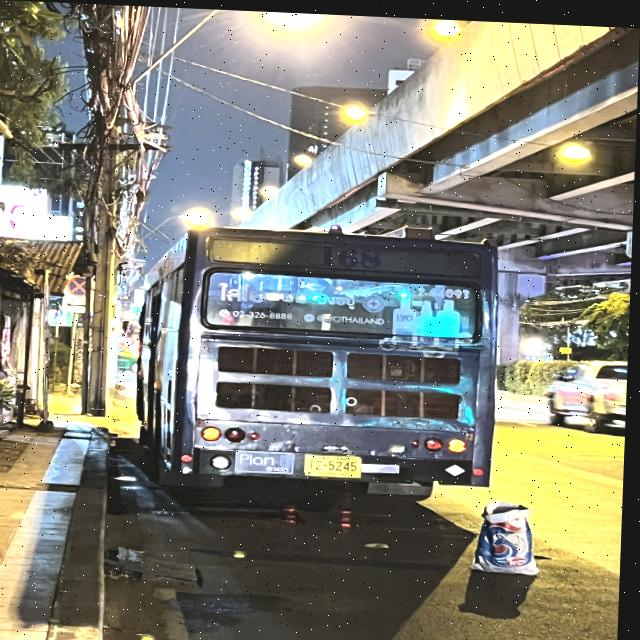BMTA-bus: (139, 227, 501, 496)
Bus Line Number: (315, 239, 392, 269)
Bus Side Number: (413, 279, 474, 299)
